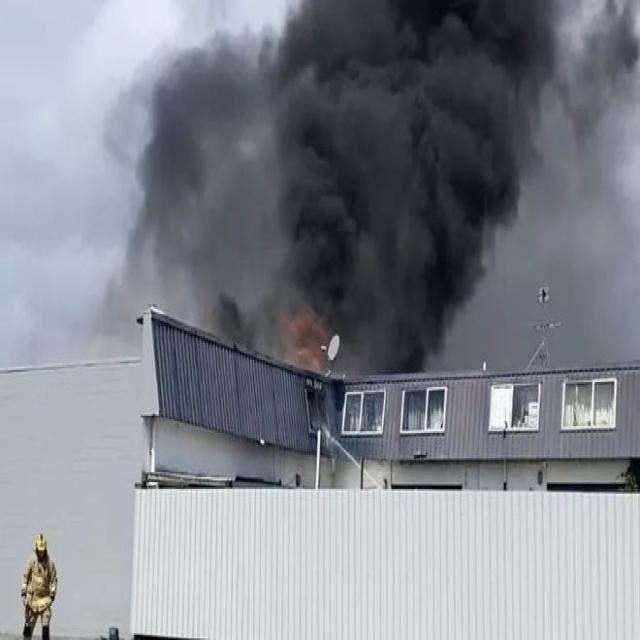Smoke: (272, 8, 562, 324), (153, 64, 220, 218)
